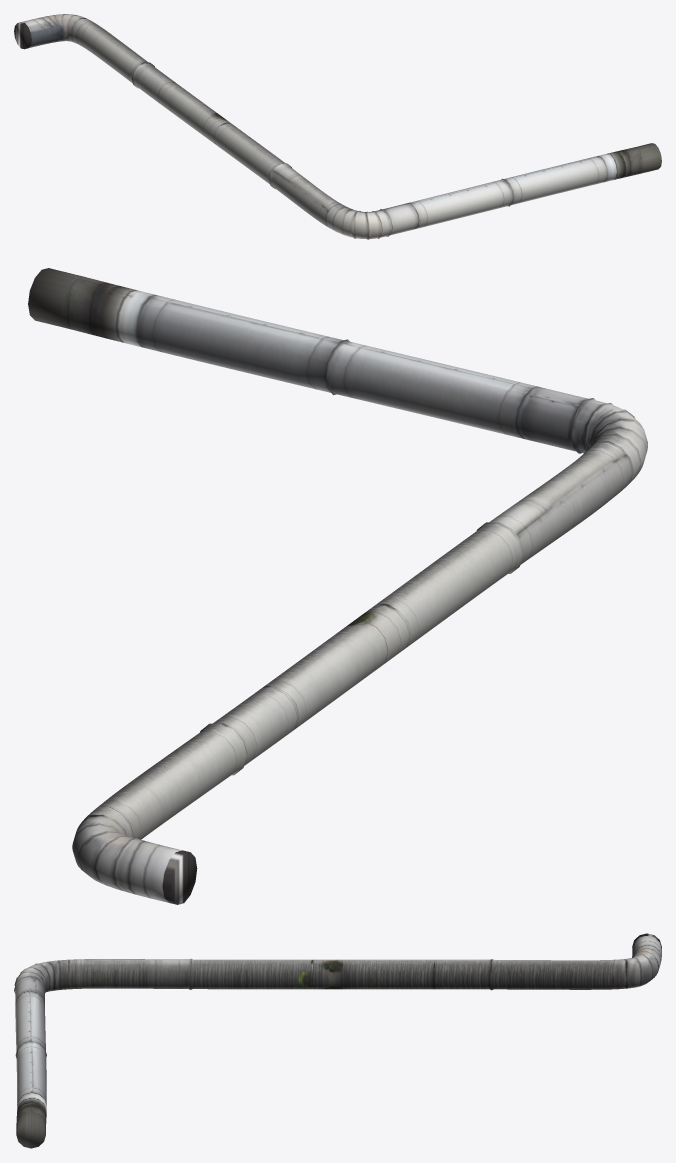
The model's file is LONG S.METAL.fbx.
3 renders of one model, top to bottom at view 1: azimuth 30°, elevation 25°; view 2: azimuth 150°, elevation 25°; view 3: azimuth 270°, elevation 25°, orthographic. The views are drawn at different scales.
Visible parts, largest first — view 1: LONG S. METAL.001; view 2: LONG S. METAL.001; view 3: LONG S. METAL.001.
Boxes of the visible parts, left/top/right/bottom form: LONG S. METAL.001: left=14, top=14, right=661, bottom=239; LONG S. METAL.001: left=28, top=268, right=647, bottom=904; LONG S. METAL.001: left=14, top=933, right=661, bottom=1148.
Size of the model in its own units: 31.22 by 2.22 by 45.37.
